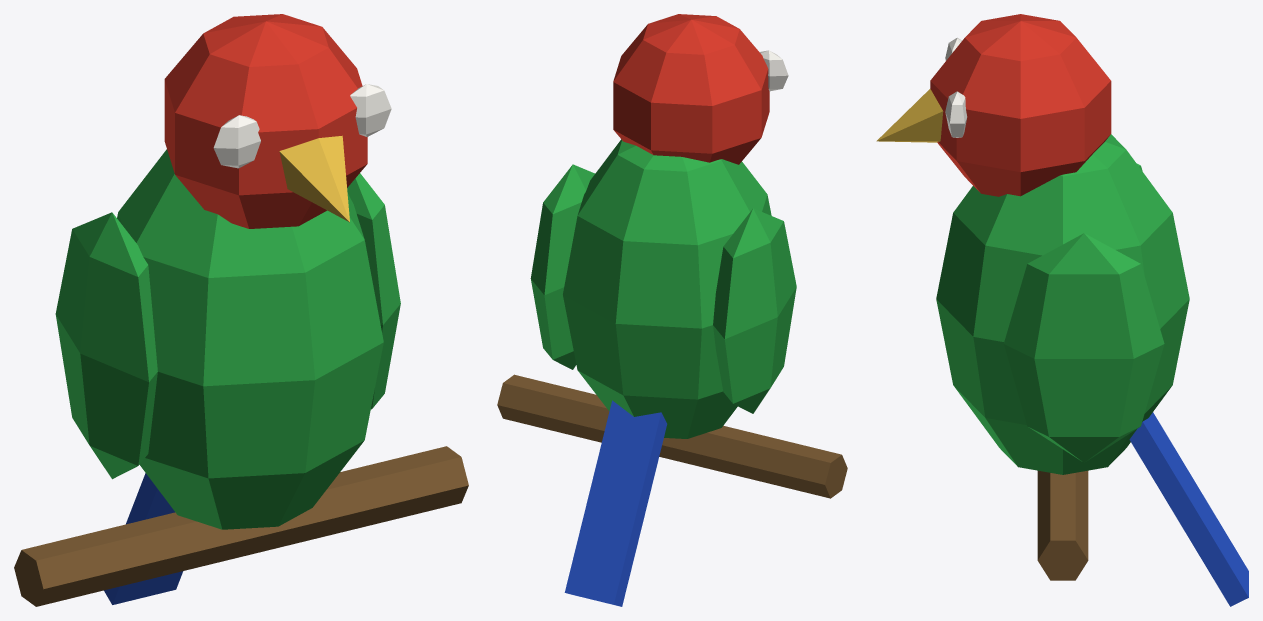
The model's file is loro.glb.
The picture shows the model from 3 angles, left to right: view 1: azimuth 30°, elevation 25°; view 2: azimuth 150°, elevation 25°; view 3: azimuth 270°, elevation 25°; orthographic projection. The views are drawn at different scales.
Visible parts, largest first — view 1: body_parrot_green, body_parrot_red, body_perch, body_beak, body_white, body_parrot_blue; view 2: body_parrot_green, body_parrot_red, body_perch, body_parrot_blue, body_white; view 3: body_parrot_green, body_parrot_red, body_parrot_blue, body_perch, body_beak, body_white.
Part boxes in pixels (x1=…): body_parrot_green: x1=55, y1=149, x2=400, y2=529; body_parrot_red: x1=164, y1=14, x2=367, y2=228; body_perch: x1=14, y1=446, x2=468, y2=606; body_beak: x1=279, y1=135, x2=349, y2=222; body_white: x1=213, y1=84, x2=391, y2=168; body_parrot_blue: x1=104, y1=473, x2=183, y2=604; body_parrot_green: x1=530, y1=139, x2=796, y2=438; body_parrot_red: x1=613, y1=14, x2=769, y2=164; body_perch: x1=497, y1=374, x2=847, y2=498; body_parrot_blue: x1=564, y1=400, x2=667, y2=606; body_white: x1=759, y1=50, x2=788, y2=91; body_parrot_green: x1=936, y1=134, x2=1189, y2=474; body_parrot_red: x1=930, y1=14, x2=1111, y2=196; body_parrot_blue: x1=1129, y1=412, x2=1248, y2=606; body_perch: x1=1037, y1=470, x2=1088, y2=580; body_beak: x1=876, y1=89, x2=943, y2=142; body_white: x1=945, y1=37, x2=967, y2=137.
Size of the model in its own units: 0.2 by 0.2988 by 0.1764.
